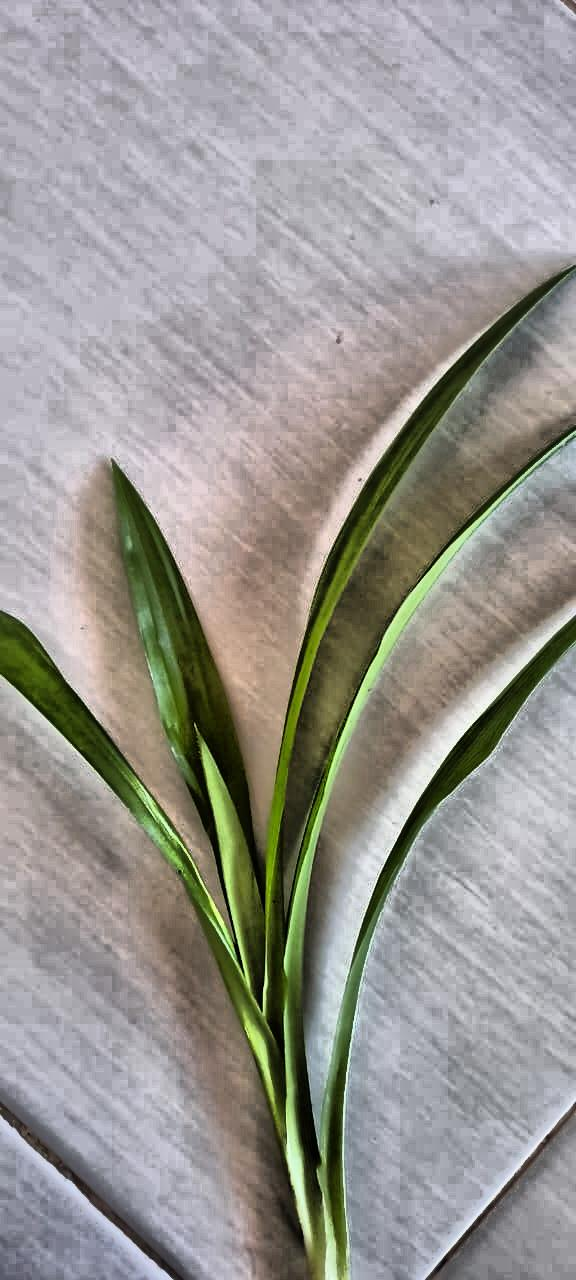daun pandan: (2, 268, 575, 1279)
